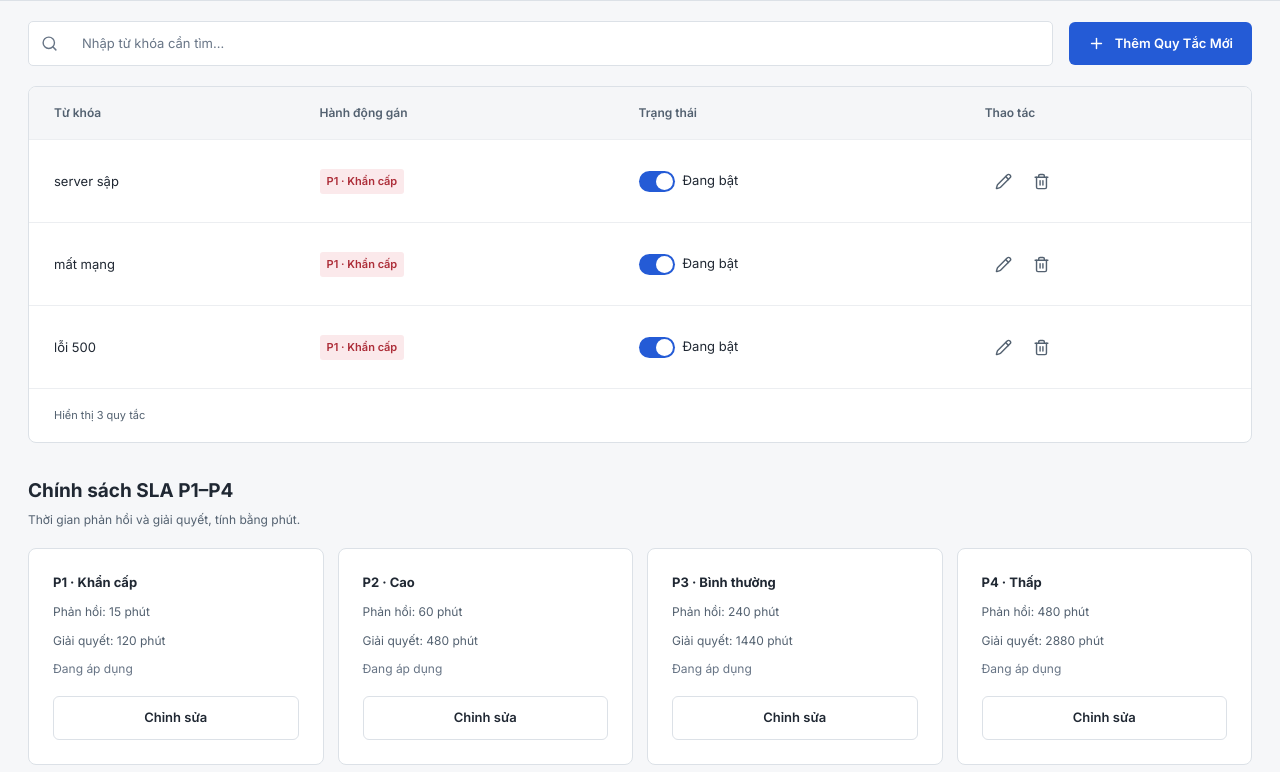
Scenario: RulesPage preview interactions › edits P2 SLA without touching the backend in preview
(page scrolled)
Click the button "Chỉnh sửa" below "60" at (485, 718), box [362, 696, 608, 740]
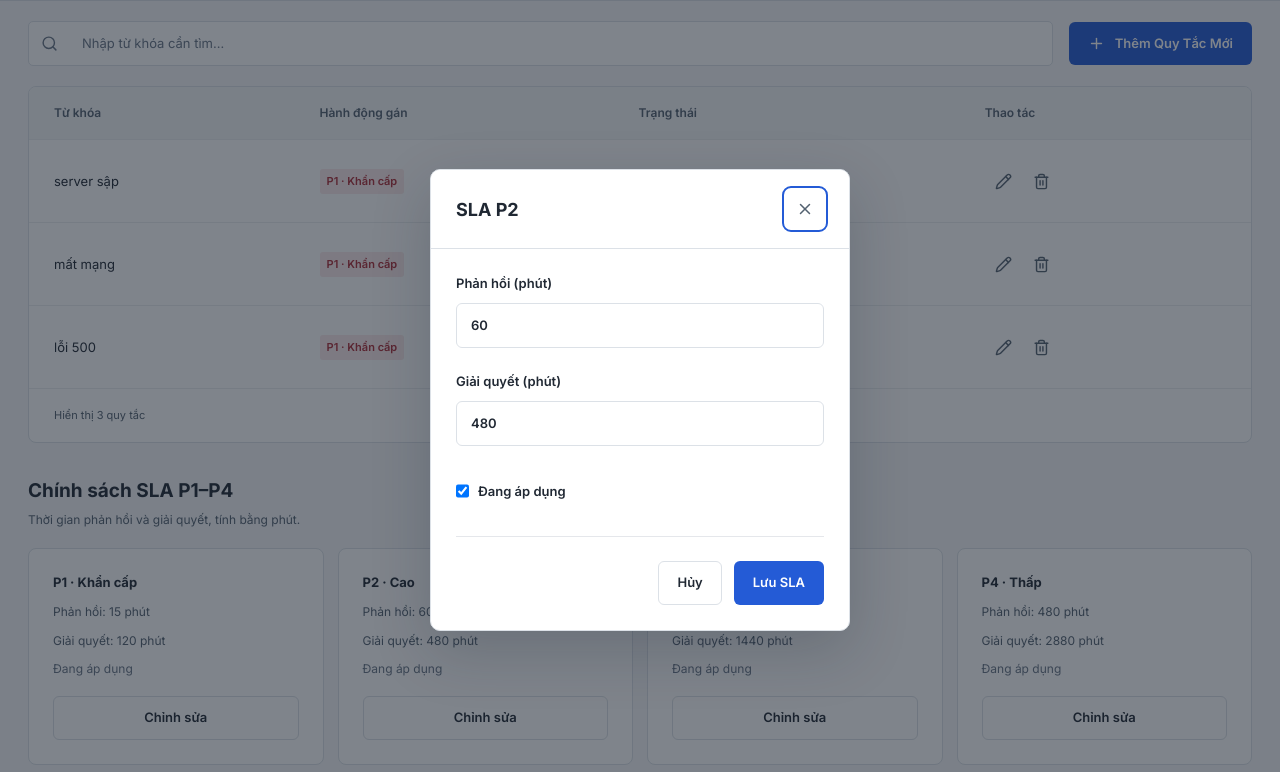
Replace the text in the number field labelled "Phản hồi (phút)" with "75" at (640, 326), box [456, 303, 824, 348]
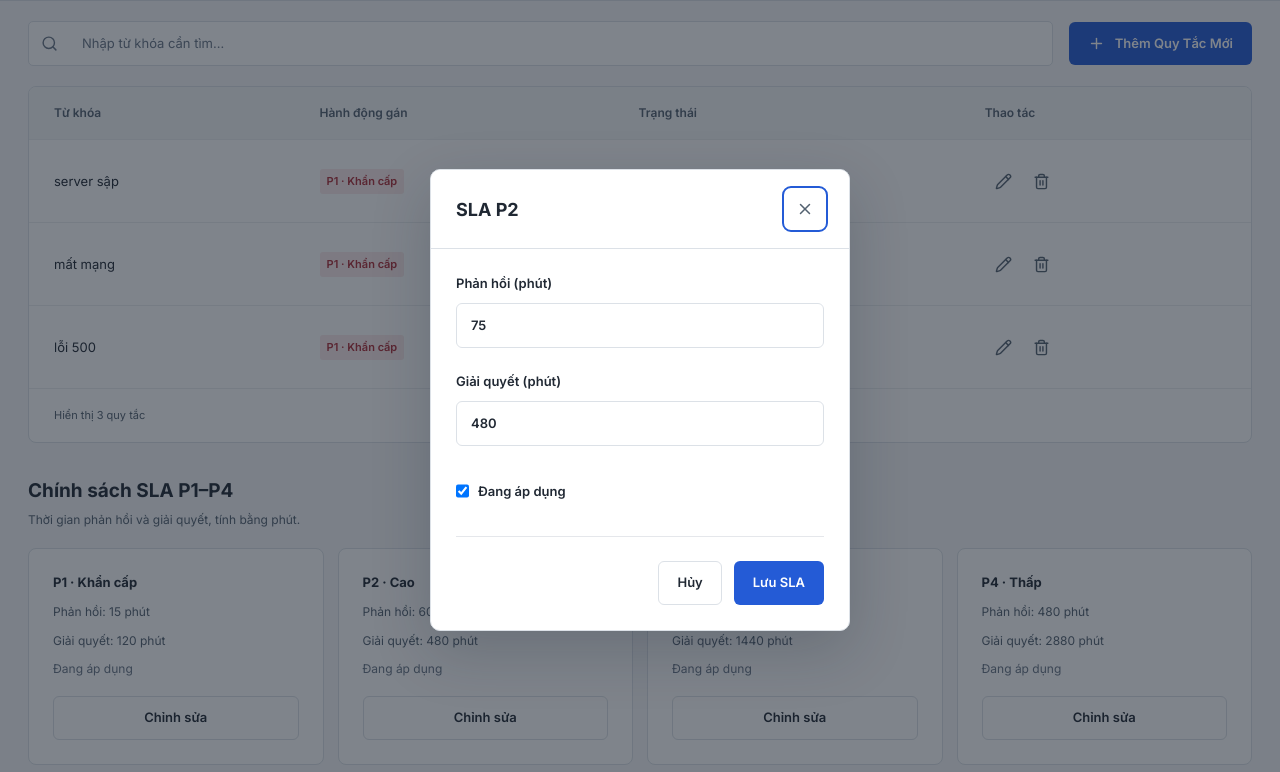
Click the button "Lưu SLA" at (779, 583), box [734, 561, 824, 605]
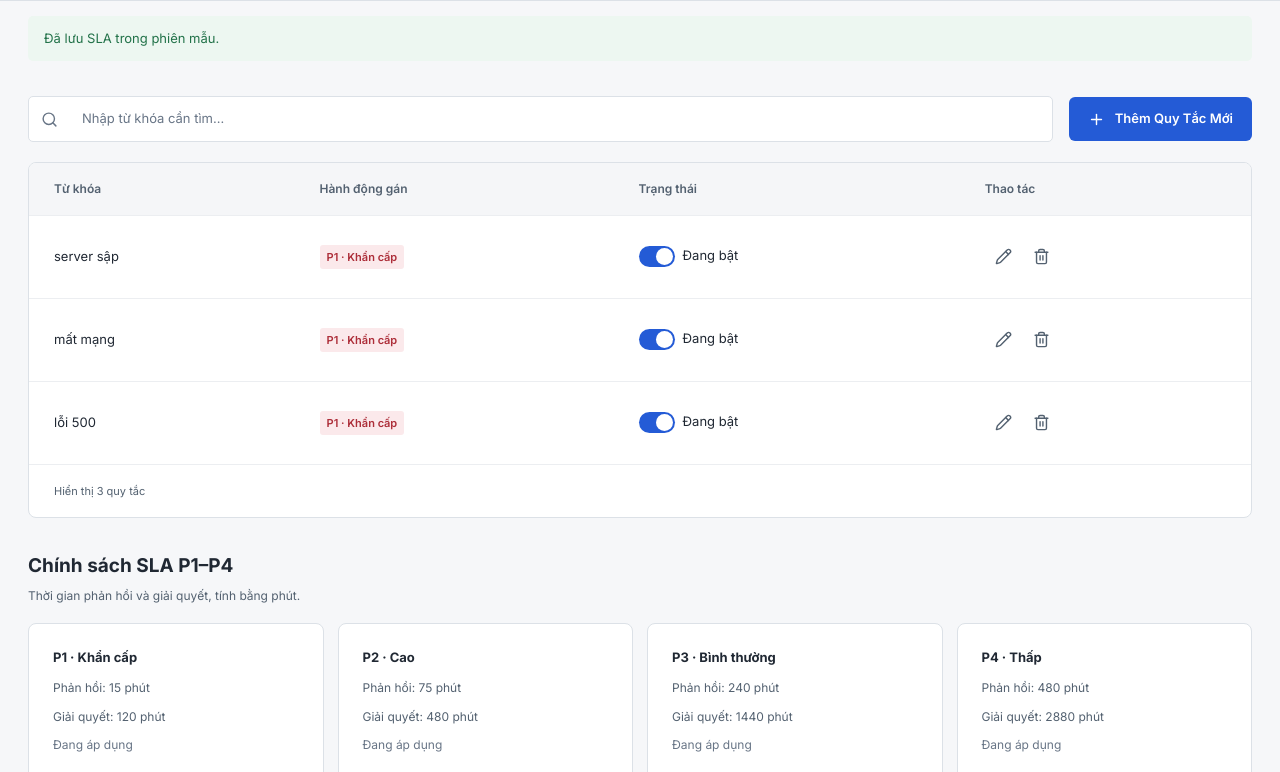
Check: the text "Phản hồi: 75 phút" is shown, box [362, 680, 461, 695]
